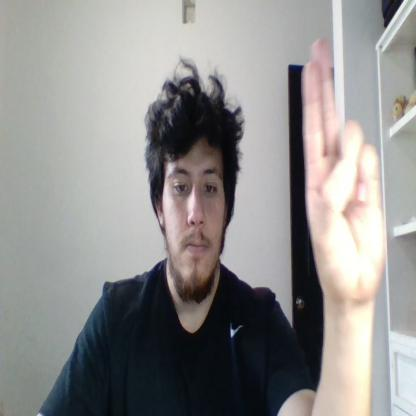U: (302, 37, 386, 300)
